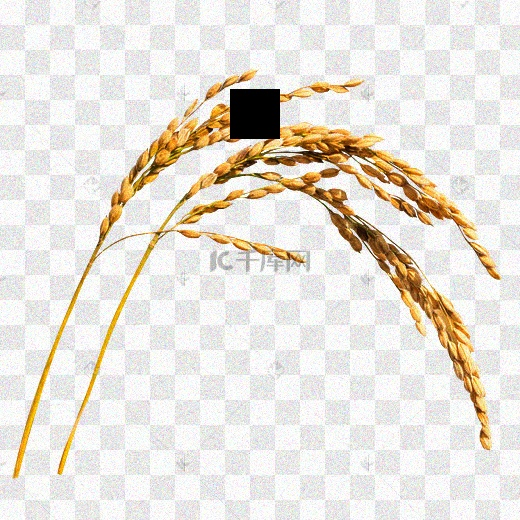rice: (146, 155, 490, 452), (85, 72, 501, 264)
